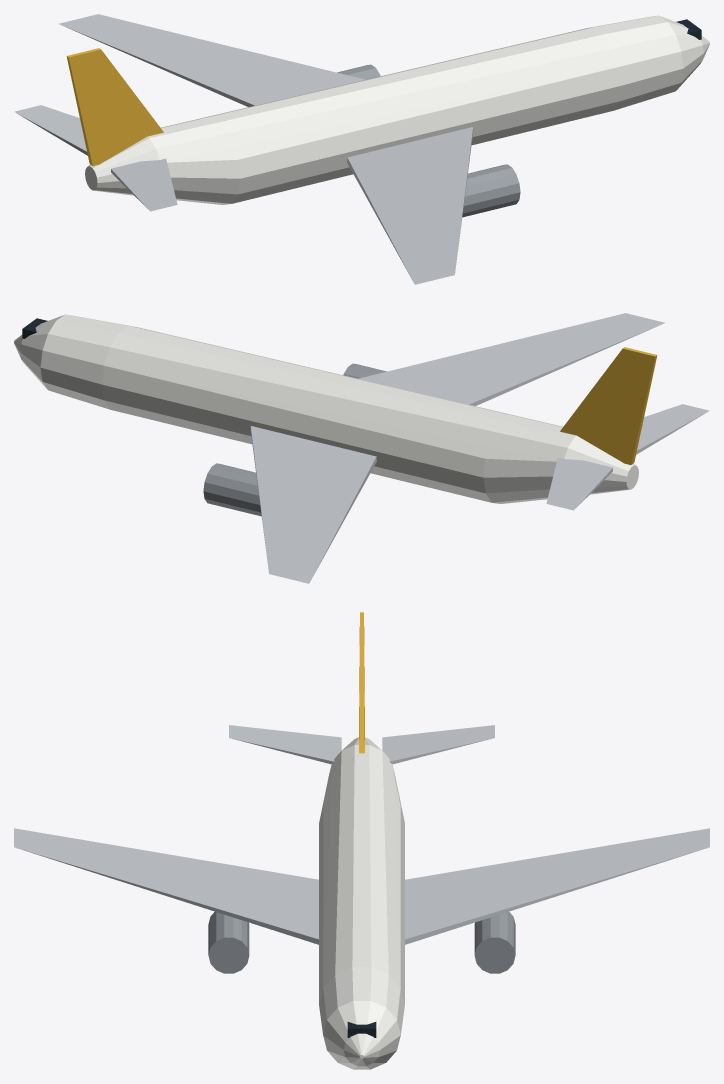
The model's file is airliner.glb.
The picture shows the model from 3 angles, top to bottom: view 1: azimuth 30°, elevation 25°; view 2: azimuth 150°, elevation 25°; view 3: azimuth 270°, elevation 25°; orthographic projection. The views are drawn at different scales.
Visible parts, largest first — view 1: Airliner; view 2: Airliner; view 3: Airliner.
Boxes of the visible parts, bbox=[...] form: Airliner: bbox=[14, 14, 709, 284]; Airliner: bbox=[14, 313, 709, 583]; Airliner: bbox=[14, 612, 709, 1069].
Bounding box in the file's own units: 35.3 × 9.87 × 34.
